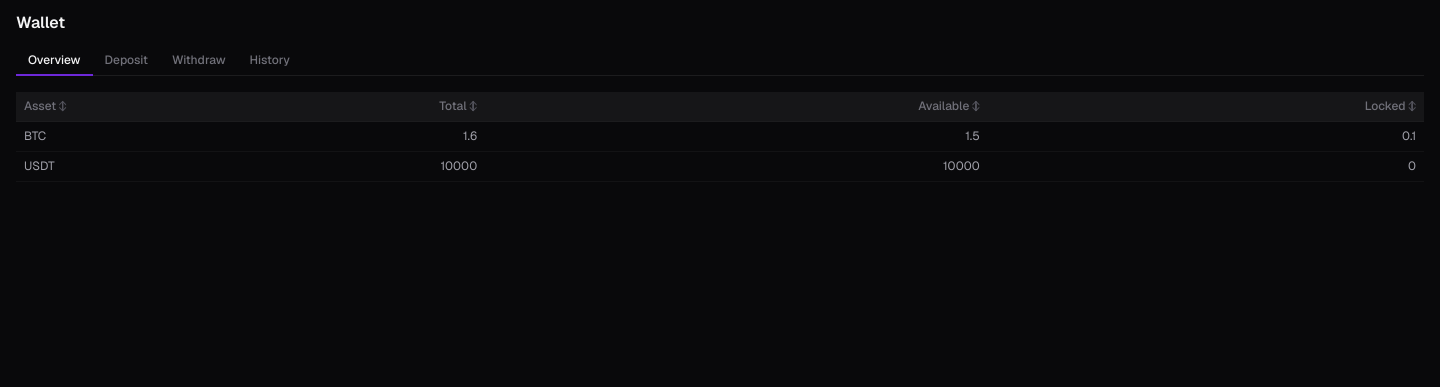
Scenario: WalletPage › switching to Deposit tab shows deposit address
Click the tab "Deposit" at x=126, y=61, box [92,46,160,76]
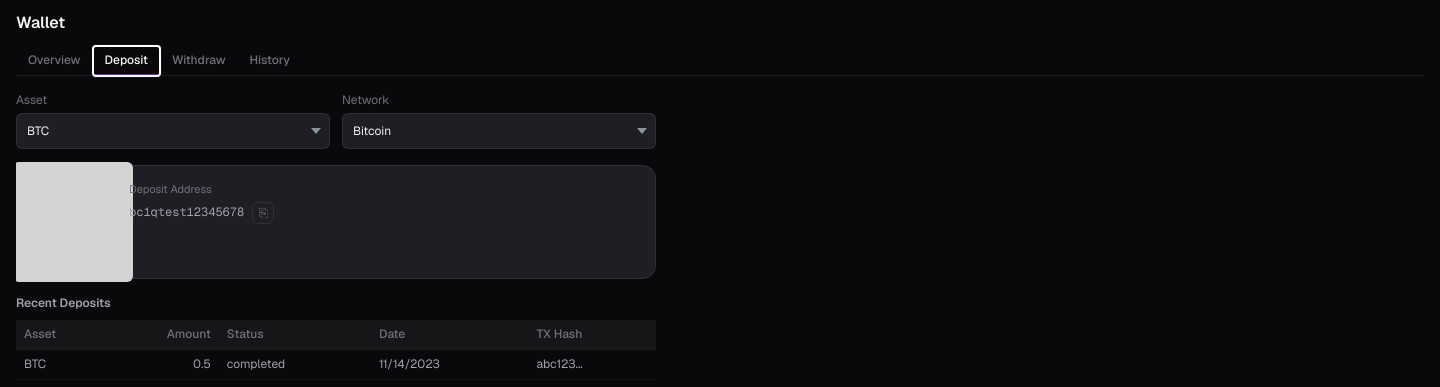
Result: the text "Deposit Address" is shown at [129,182,212,196]
Result: the text "bc1qtest12345678" is shown at [129,204,244,221]
